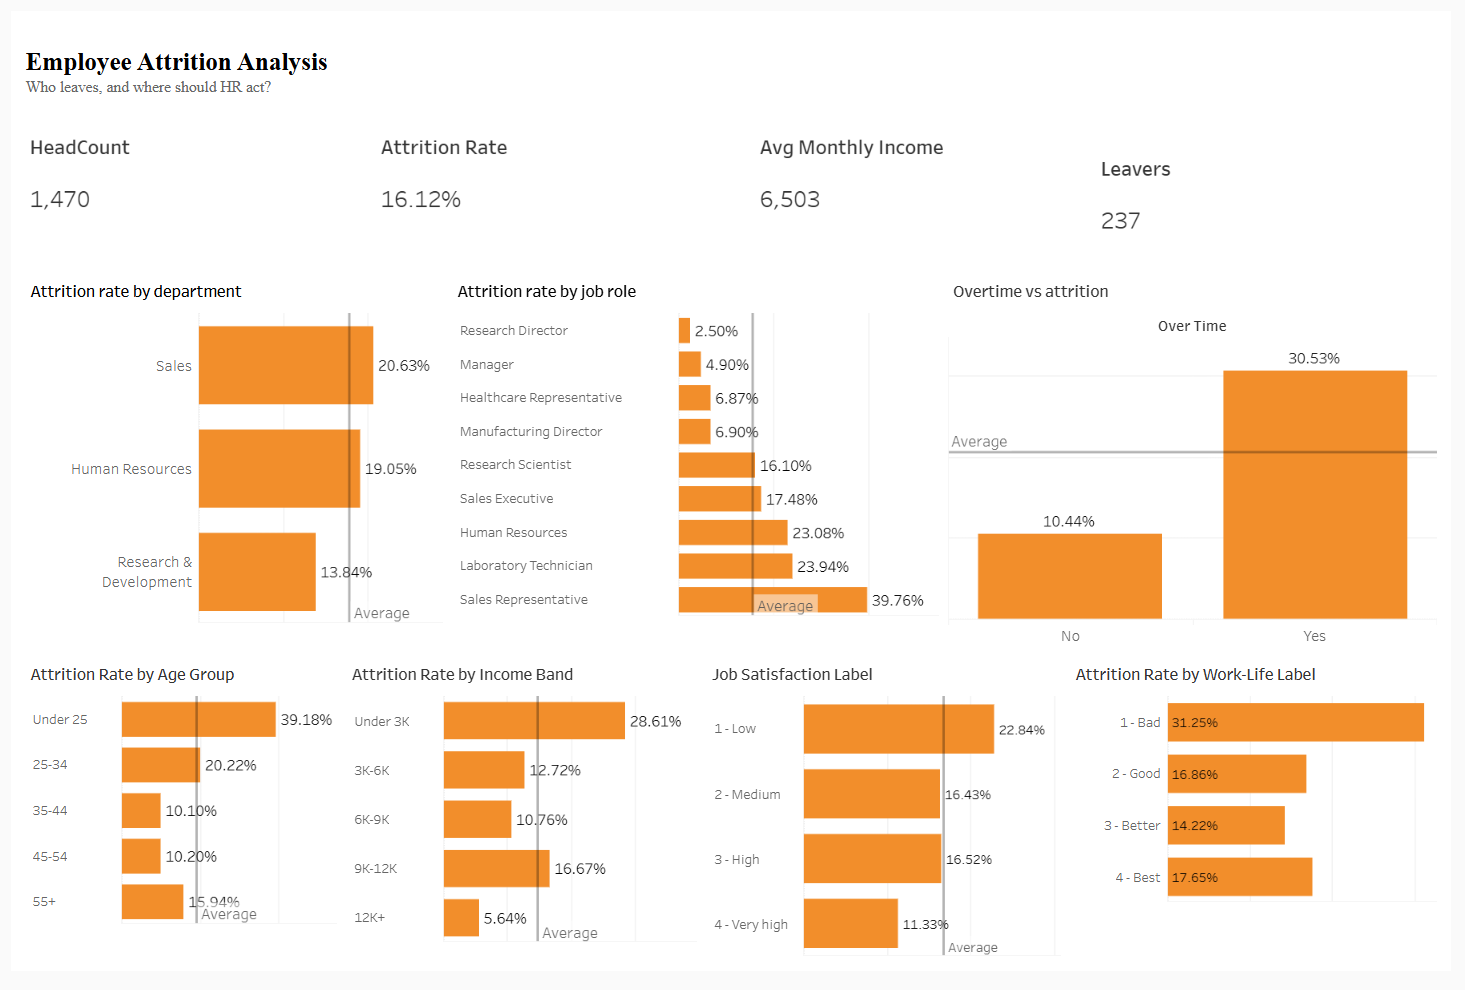

Layout of this report page (visuals, bound fields, positions):
{"tool":"tableau","page":{"name":"Dashboard 1","canvas":[1200,800],"ordinal":0},"visuals":[{"type":"text","box":[8,8,1184,84]},{"type":"dashboard-object","param":"[com.tableau.addfilters].[0.0.0].[https://extensions.tableauusercontent.com/sand","box":[694,9,1,1]},{"type":"worksheet","title":"KPI 1","mark":"Text","box":[8,92,292,122]},{"type":"worksheet","title":"KPI 3","mark":"Automatic","box":[300,92,316,122]},{"type":"worksheet","title":"KPI 4","mark":"Automatic","box":[616,92,284,122]},{"type":"worksheet","title":"KPI 2","mark":"Text","box":[900,92,292,122]},{"type":"worksheet","title":"Attrition rate by department","mark":"Automatic","rows":["Department"],"cols":["Calculation_0948941976940546"],"box":[8,214,356,319]},{"type":"worksheet","title":"Attrition rate by job role","mark":"Automatic","rows":["JobRole"],"cols":["Calculation_0948941976940546"],"box":[364,214,413,319]},{"type":"worksheet","title":"Overtime vs attrition","mark":"Automatic","rows":["Calculation_0948941976940546"],"cols":["OverTime"],"box":[777,214,415,319]},{"type":"worksheet","title":"Age Group","mark":"Automatic","rows":["Calculation_0948941977210885"],"cols":["Calculation_0948941976940546"],"box":[8,533,268,259]},{"type":"worksheet","title":"Income Band","mark":"Automatic","rows":["Calculation_0948941977399302"],"cols":["Calculation_0948941976940546"],"box":[276,533,300,259]},{"type":"worksheet","title":"Job Satisfaction Label","mark":"Automatic","rows":["Calculation_0948941977976841"],"cols":["Calculation_0948941976940546"],"box":[576,533,303,259]},{"type":"worksheet","title":"Work-Life Label","mark":"Automatic","rows":["Calculation_0948941978193930"],"cols":["Calculation_0948941976940546"],"box":[879,533,313,259]}]}

Visuals, with their boxes in screenshot pixels (x1, y1, x2, y2), scaled from the page's 1200x800 canvas onto the 1465x990 screenshot:
text: {"left": 10, "top": 10, "right": 1455, "bottom": 114}
dashboard-object: {"left": 847, "top": 11, "right": 848, "bottom": 12}
"KPI 1" worksheet (Text marks): {"left": 10, "top": 114, "right": 366, "bottom": 265}
"KPI 3" worksheet: {"left": 366, "top": 114, "right": 752, "bottom": 265}
"KPI 4" worksheet: {"left": 752, "top": 114, "right": 1099, "bottom": 265}
"KPI 2" worksheet (Text marks): {"left": 1099, "top": 114, "right": 1455, "bottom": 265}
"Attrition rate by department" worksheet: {"left": 10, "top": 265, "right": 444, "bottom": 660}
"Attrition rate by job role" worksheet: {"left": 444, "top": 265, "right": 949, "bottom": 660}
"Overtime vs attrition" worksheet: {"left": 949, "top": 265, "right": 1455, "bottom": 660}
"Age Group" worksheet: {"left": 10, "top": 660, "right": 337, "bottom": 980}
"Income Band" worksheet: {"left": 337, "top": 660, "right": 703, "bottom": 980}
"Job Satisfaction Label" worksheet: {"left": 703, "top": 660, "right": 1073, "bottom": 980}
"Work-Life Label" worksheet: {"left": 1073, "top": 660, "right": 1455, "bottom": 980}
